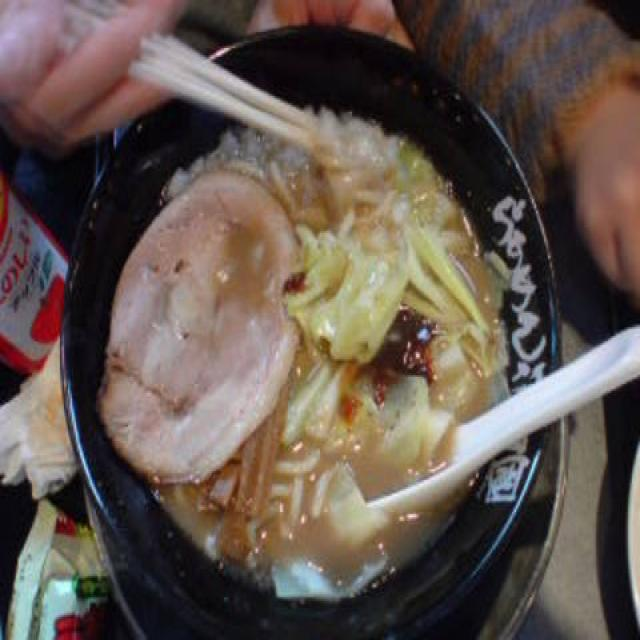面条主食: (0, 74, 461, 640)
